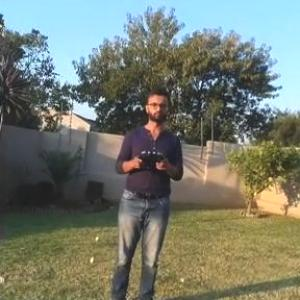follow: (106, 72, 186, 299)
